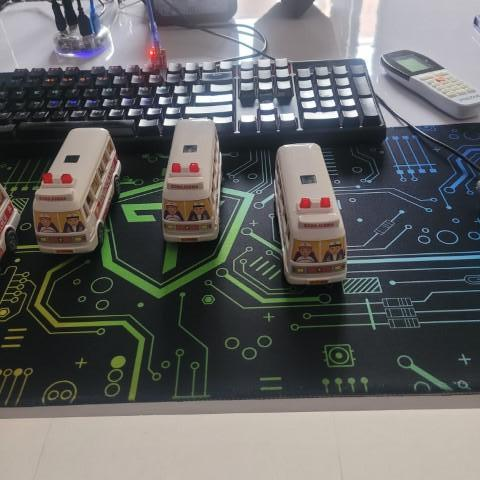ambulance: (30, 128, 121, 252), (271, 141, 347, 289), (158, 118, 224, 243)
